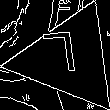L_S: (48, 32, 88, 85)
